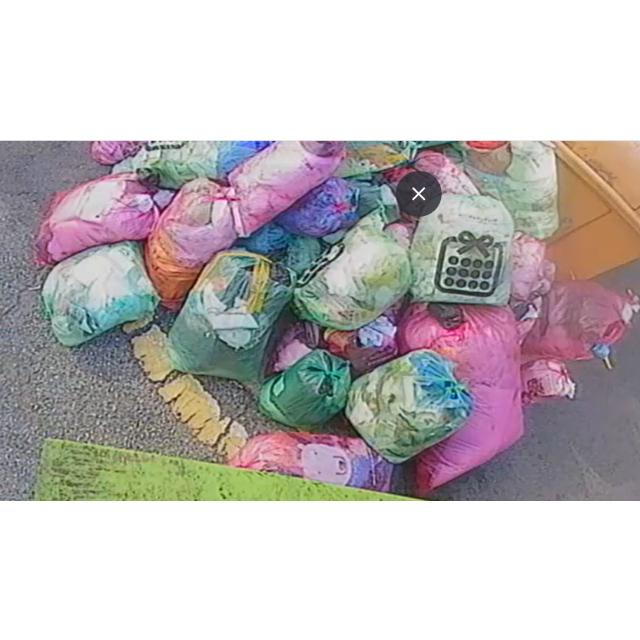general_trashbag: (169, 249, 295, 381), (345, 349, 472, 462), (294, 209, 411, 329), (42, 240, 159, 345), (410, 193, 514, 303), (456, 140, 559, 238), (112, 139, 271, 187), (259, 348, 351, 427)
other_trashbag: (399, 302, 524, 493), (145, 176, 238, 308), (35, 172, 160, 263), (228, 140, 344, 235), (229, 432, 394, 491), (521, 279, 638, 360), (275, 176, 359, 235), (521, 358, 575, 403)
